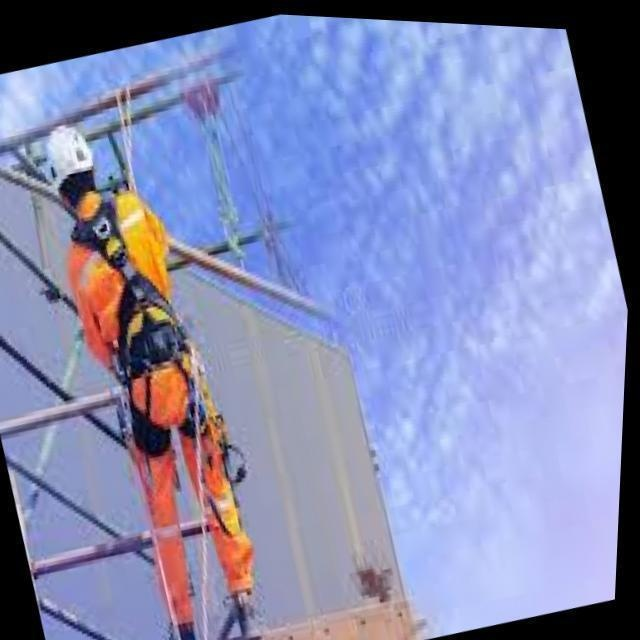Arnes_seguridad: (50, 192, 224, 456)
